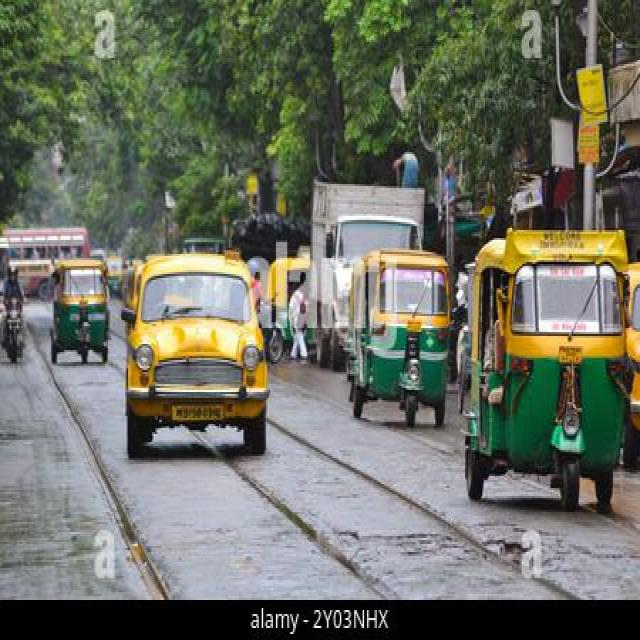Vehicles: (466, 215, 640, 517), (116, 243, 276, 473), (339, 224, 455, 433), (46, 248, 121, 401), (0, 294, 34, 374)
